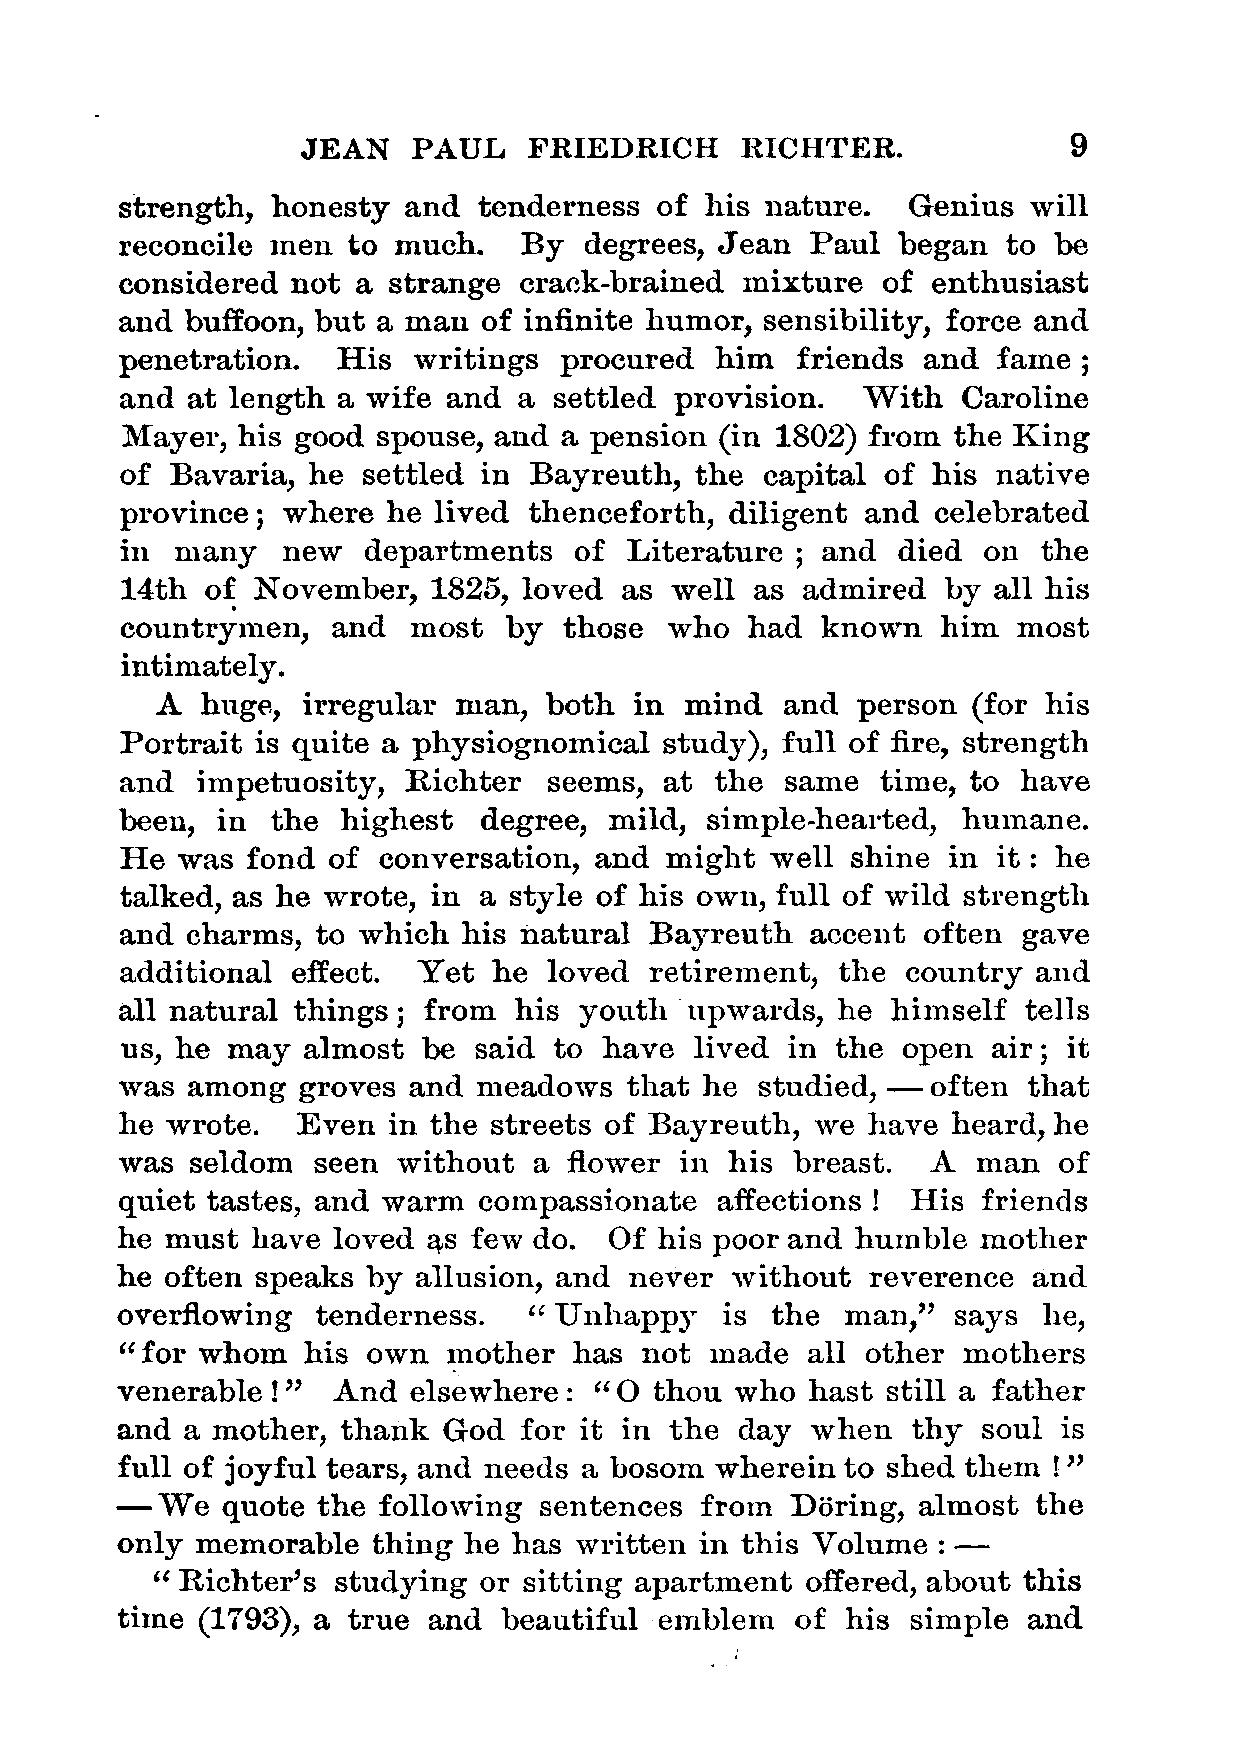content: (111, 185, 1094, 1639)
content_chapter: (293, 133, 905, 162)
content_pagenumber: (1057, 123, 1095, 162)
